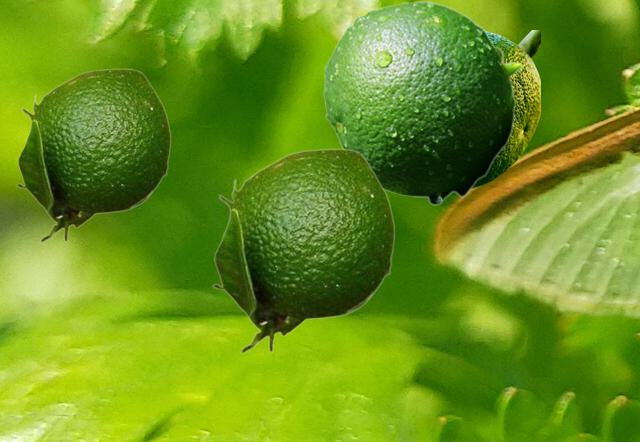dalandan: (323, 0, 522, 205), (211, 148, 394, 353), (15, 68, 170, 242), (474, 30, 539, 187)
